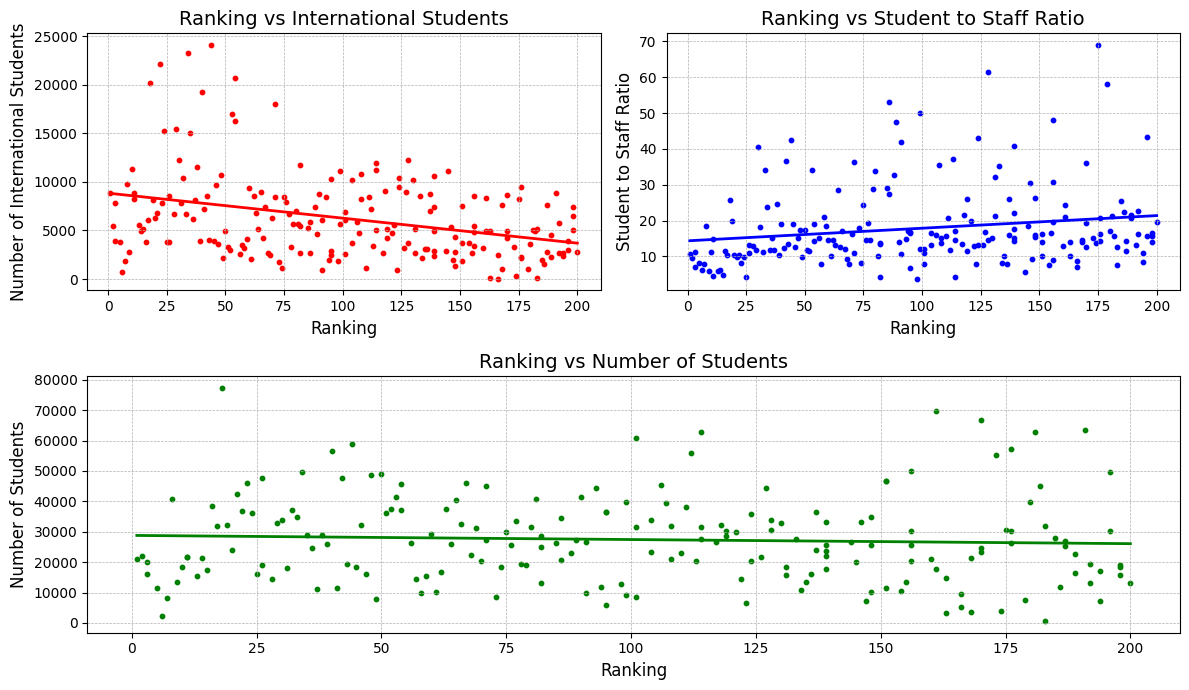

The dashboard page shown, as its layout file describes it:
{"tool":"tableau","page":{"name":"Dashboard 1","canvas":[1000,800],"ordinal":0},"visuals":[{"type":"worksheet","title":"Sheet 3","mark":"Automatic","rows":["fall","Meteorite_Landings_20231028.csv_1F803E414B8C4B4B9D0B80996B7E"],"cols":["year"],"box":[8,8,984,441]},{"type":"worksheet","title":"Sheet 1","mark":"Automatic","rows":["name"],"cols":["mass (g)"],"box":[8,449,492,343]},{"type":"worksheet","title":"Sheet 2","mark":"Automatic","rows":["recclass"],"cols":["recclass"],"box":[500,449,492,343]}]}

Visuals, with their boxes on the page's 1000x800 design canvas (x1, y1, x2, y2). These are canvas units, not pixel positions in the 1189x690 screenshot, which may show the page scaled, cropped or inside an application window:
"Sheet 3" worksheet: locate(8, 8, 992, 449)
"Sheet 1" worksheet: locate(8, 449, 500, 792)
"Sheet 2" worksheet: locate(500, 449, 992, 792)
